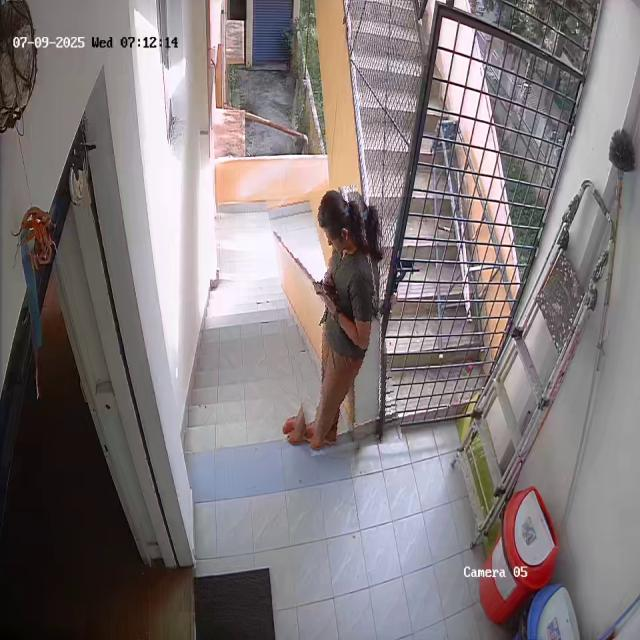person: (277, 187, 392, 453)
